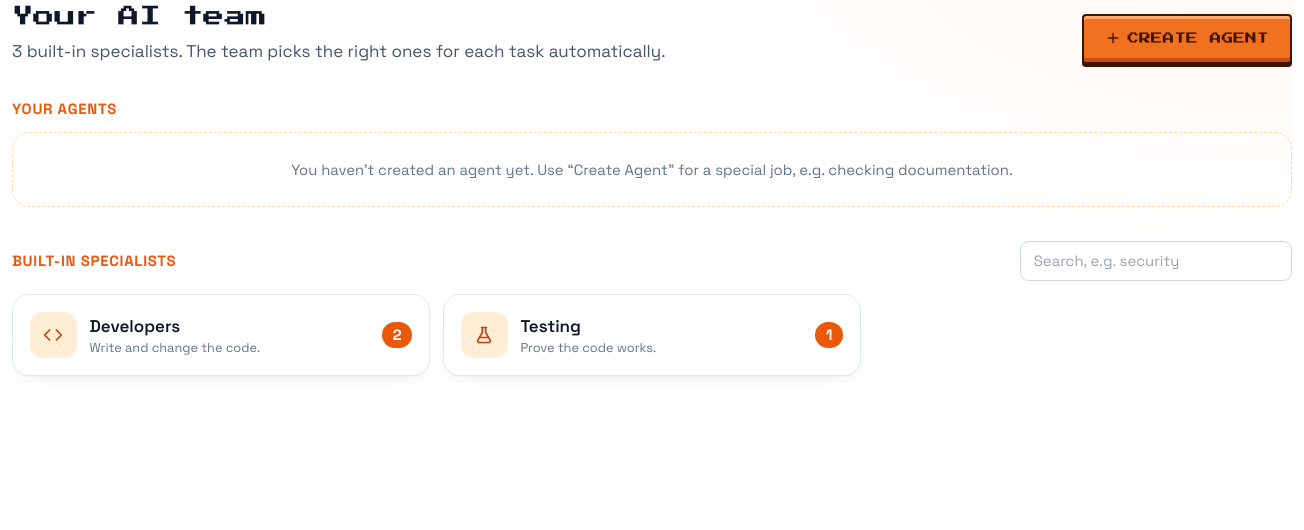
AgentsPage › search finds agents across categories
Expected: the text "Developers" is shown, [90,315,180,337]
Type "ui" into the field named "Search agents" at x=1156, y=261, box [1020,240,1292,281]
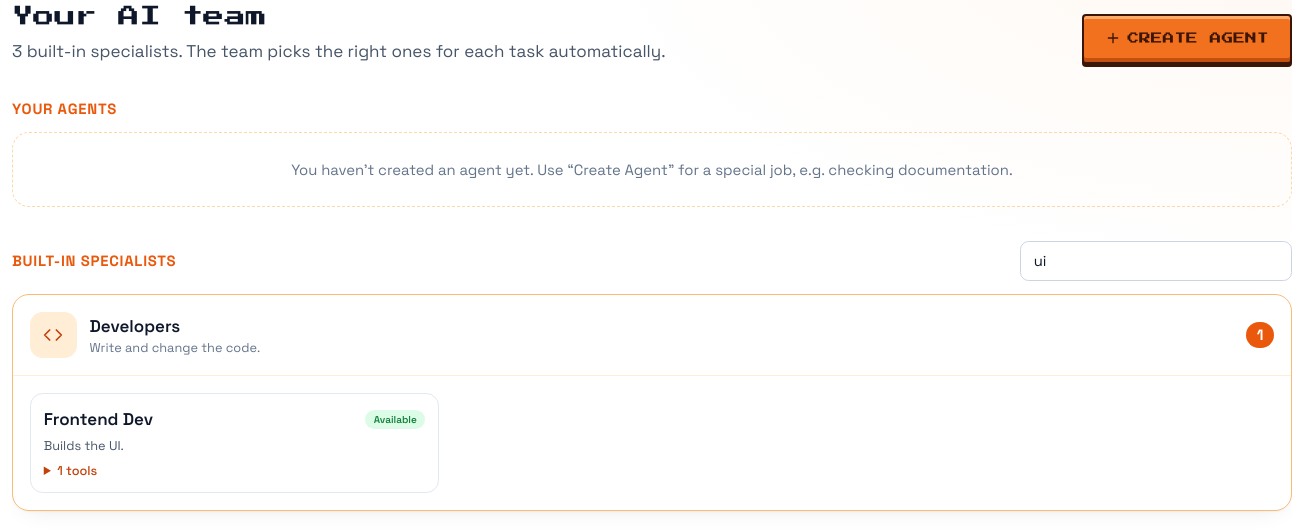
Expected: the text "Frontend Dev" is shown, [44,407,153,432]
Expected: the button "Testing" is gone
